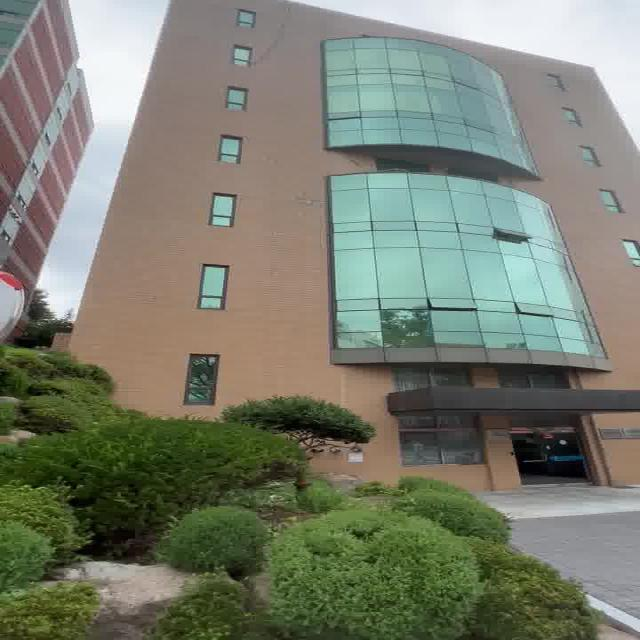building: (114, 24, 640, 401)
